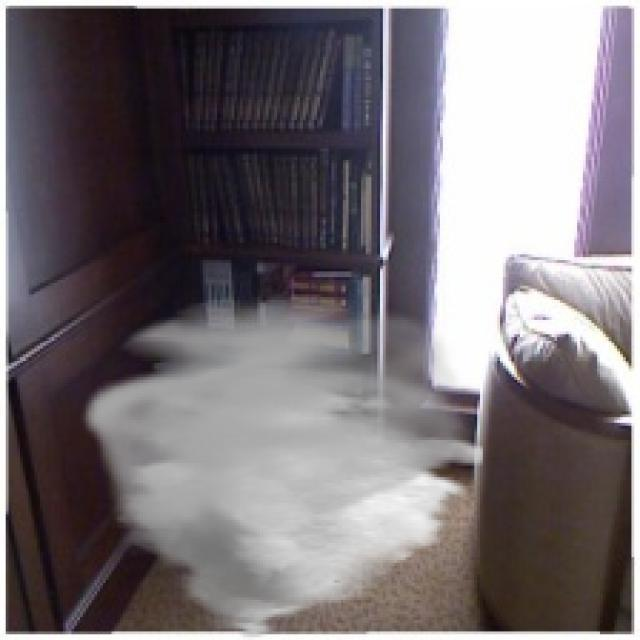Smoke: (77, 294, 486, 637)
